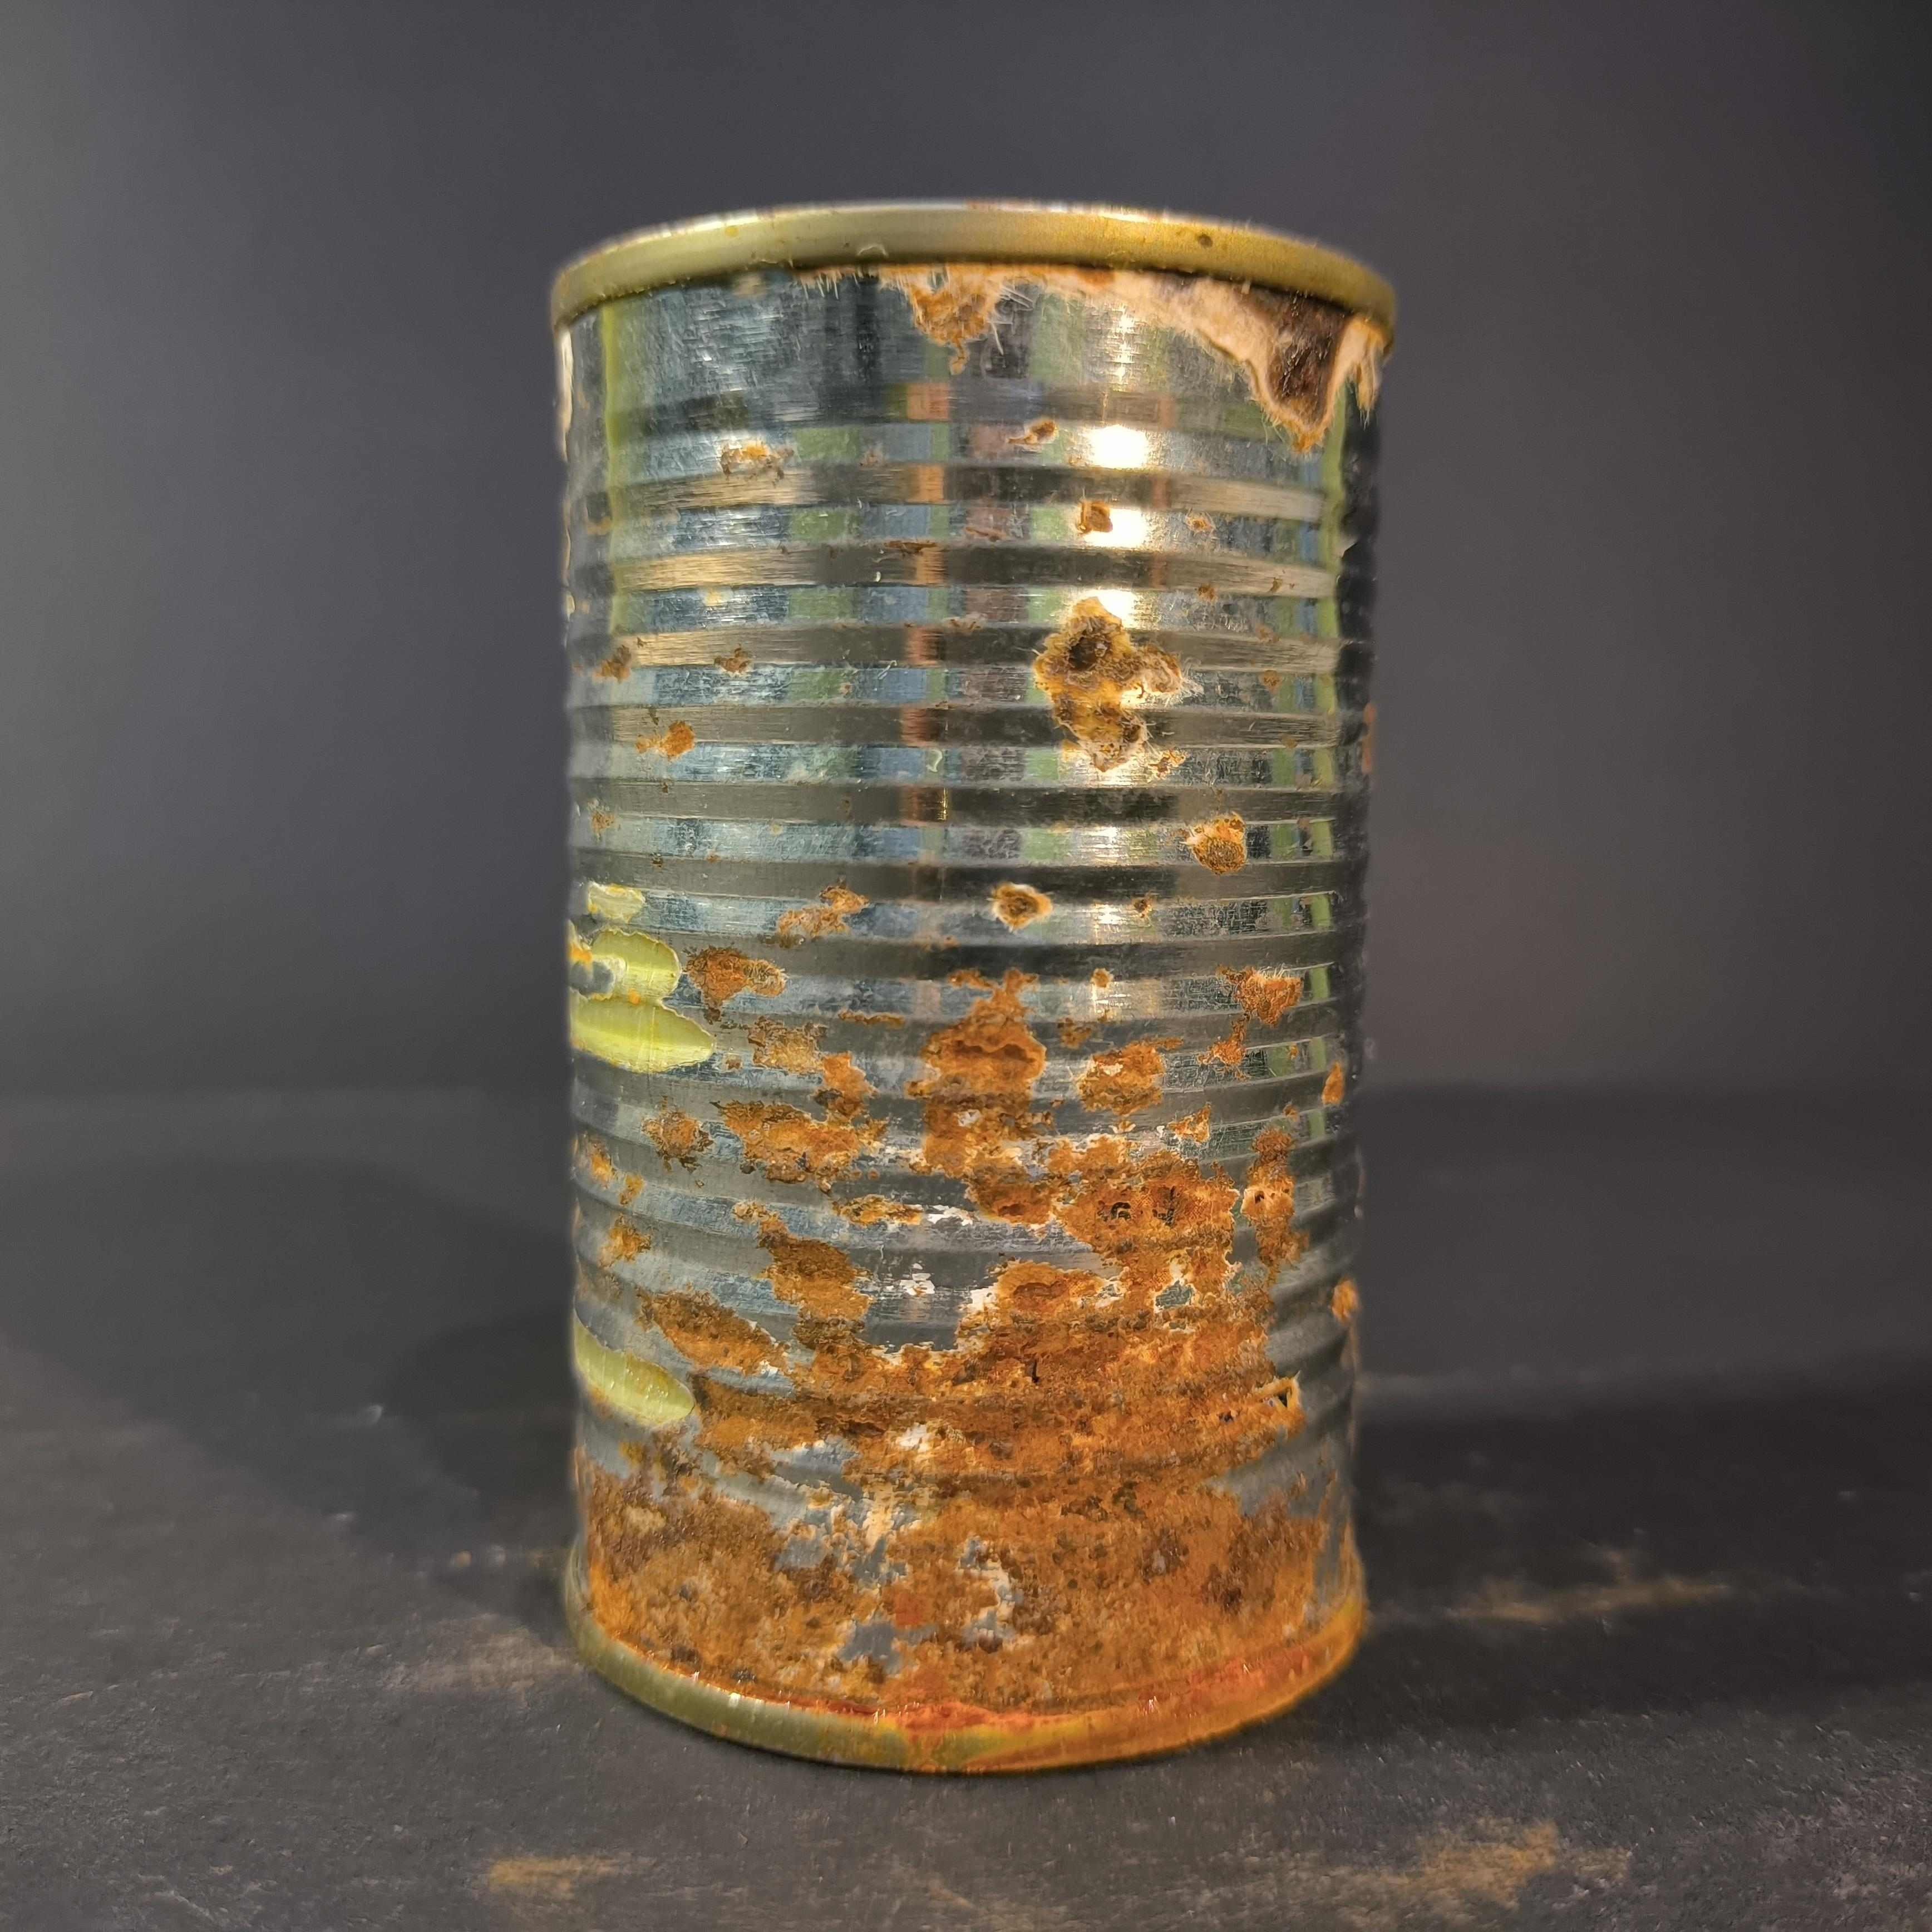Rusted: (504, 170, 1438, 1794)
